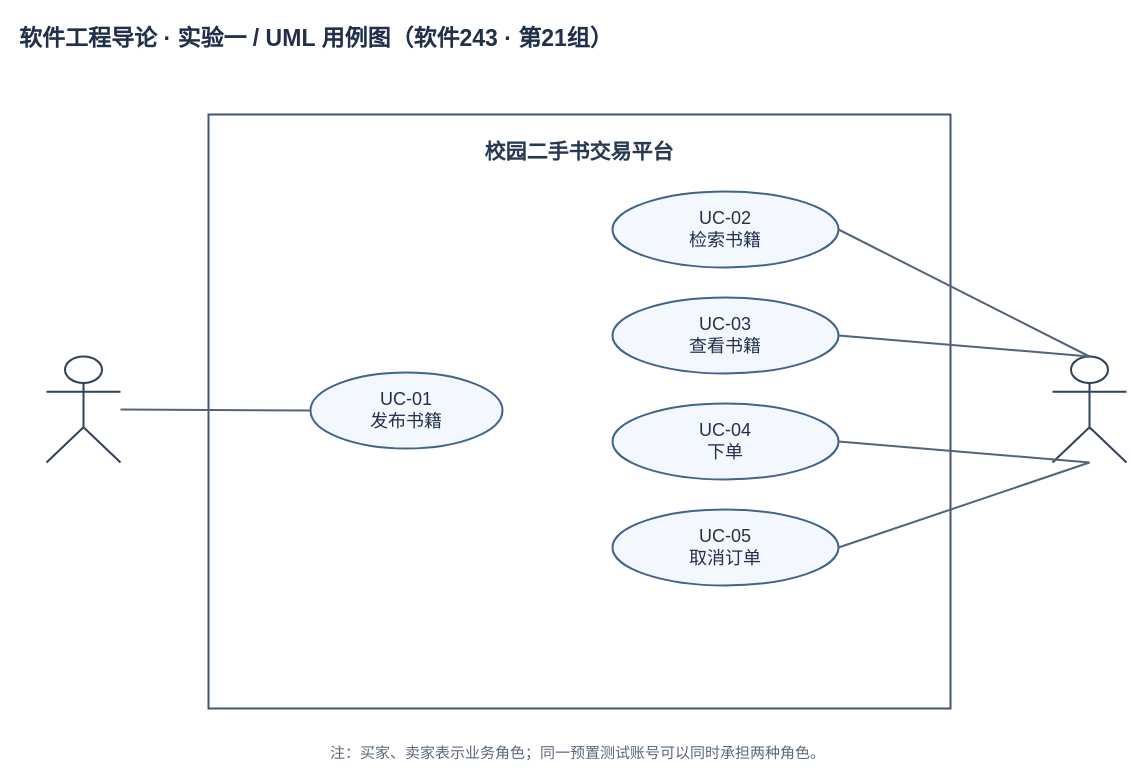
Image size: 1144x782. Some labels were removed from this diagram. The shapes that lost their labels are listed below. From the top down, each one's centre as x and y in pixels, then its label:
At [83,409]: "卖家".
At [1089,409]: "买家".
